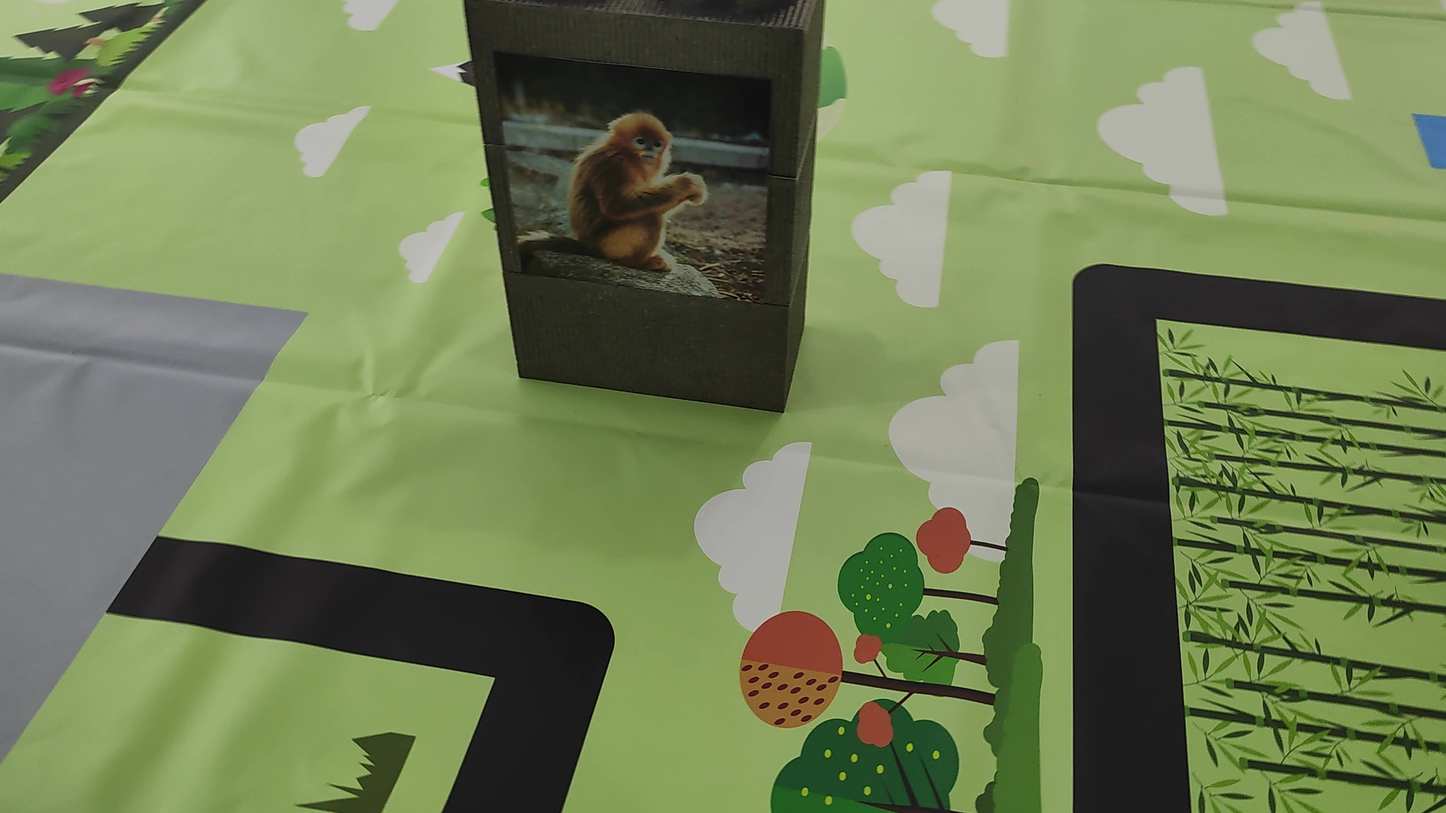monkey: (528, 89, 728, 287)
